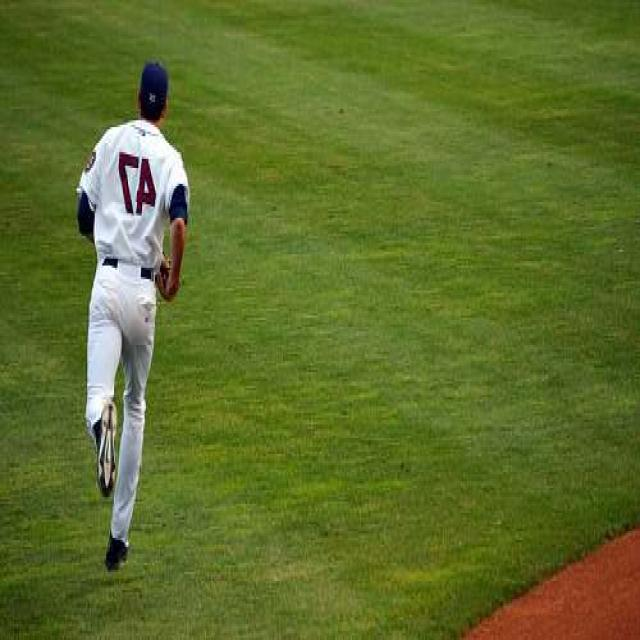running: (74, 59, 194, 574)
